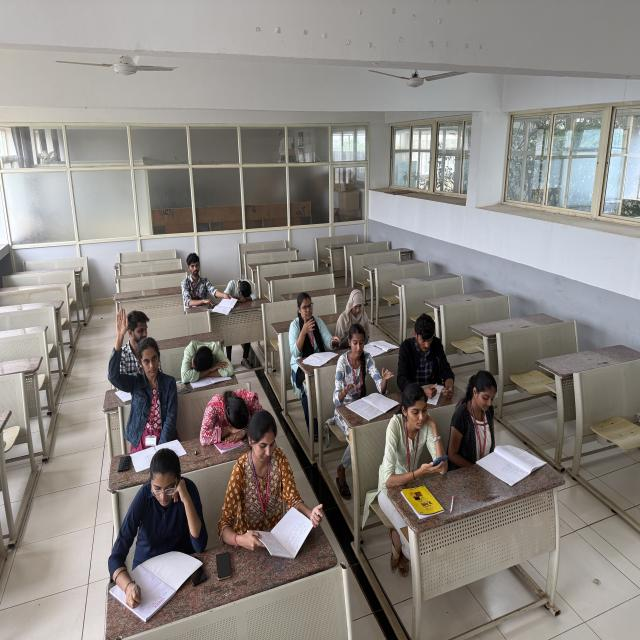Hand Rising: (106, 304, 180, 443)
Reading: (220, 410, 326, 554), (447, 371, 539, 481), (334, 323, 396, 417), (178, 248, 230, 315)
Sleeping: (178, 326, 238, 389), (199, 387, 265, 441), (224, 267, 263, 304)
Using Phone: (378, 382, 447, 493), (332, 284, 383, 336)
Writing: (105, 447, 212, 606), (393, 306, 464, 397)
